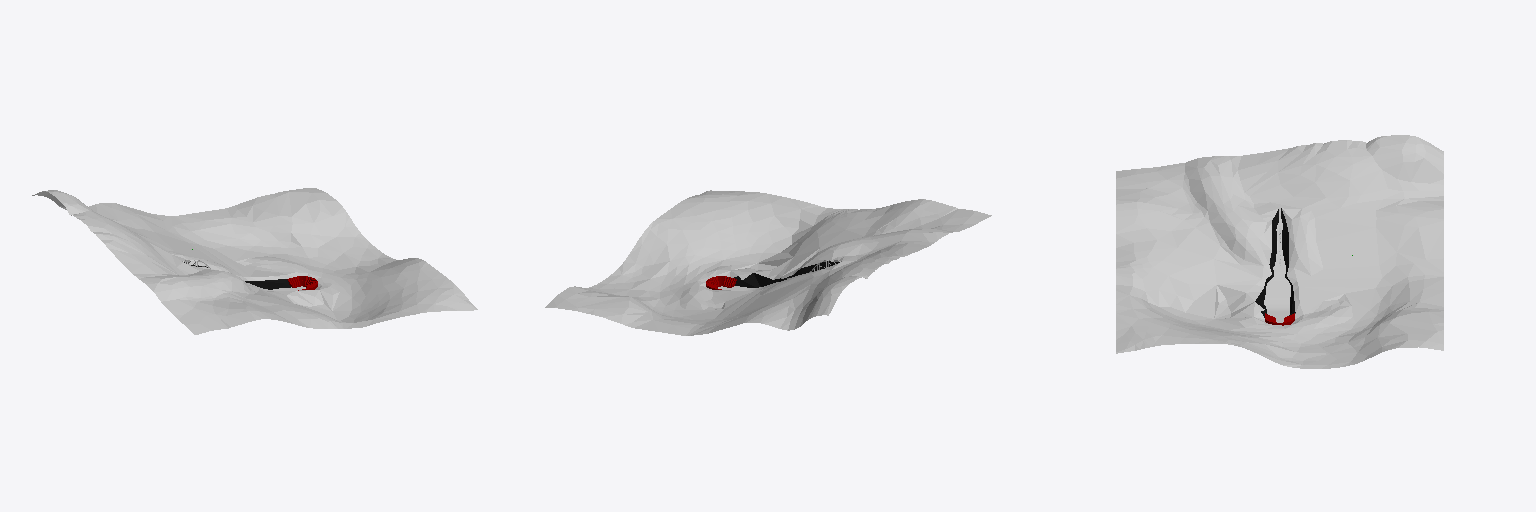
The picture shows the model from 3 angles: view 1: azimuth 30°, elevation 25°; view 2: azimuth 150°, elevation 25°; view 3: azimuth 270°, elevation 25°; orthographic projection.
Parts seen in each view (by area): view 1: MOUNTAIN_Mesh.026; view 2: MOUNTAIN_Mesh.026; view 3: MOUNTAIN_Mesh.026, LANDING_Mesh.028.
Part boxes in pixels (bbox=[...]): MOUNTAIN_Mesh.026: bbox=[32, 188, 477, 334]; MOUNTAIN_Mesh.026: bbox=[545, 190, 991, 335]; MOUNTAIN_Mesh.026: bbox=[1116, 135, 1443, 368]; LANDING_Mesh.028: bbox=[1264, 219, 1290, 322].
Bounding box in the file's own units: 1007 × 346 × 1000.